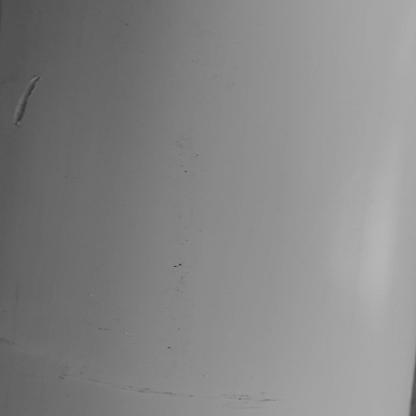sunshang: (13, 77, 45, 124)
